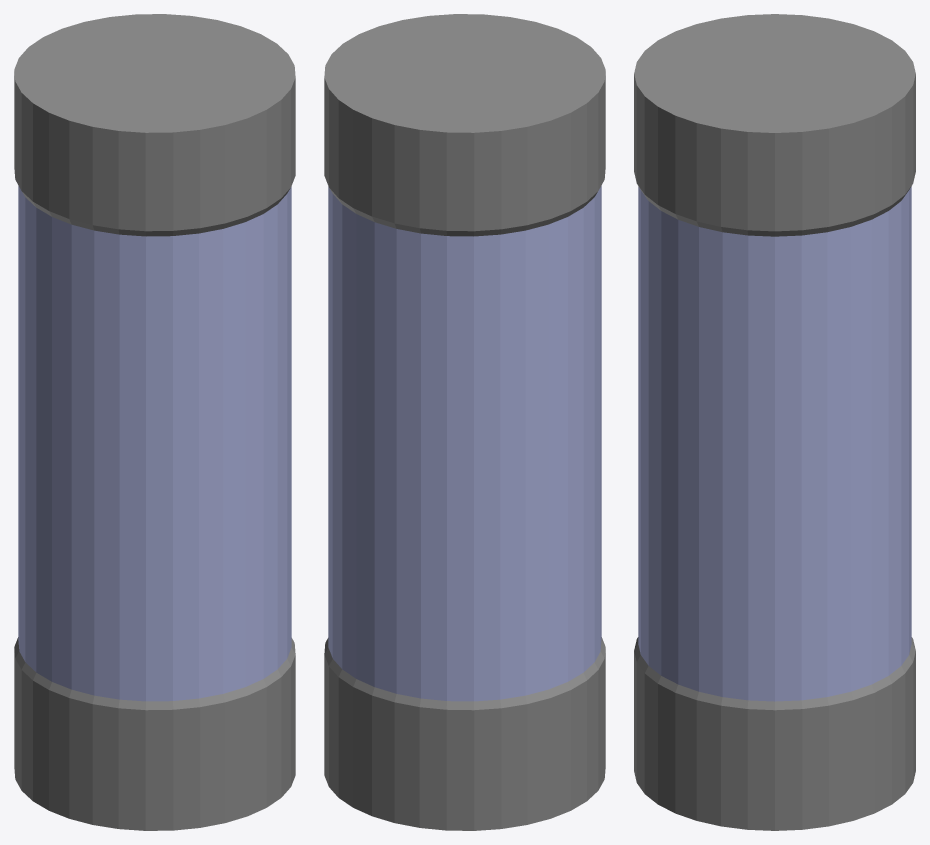
The picture shows the model from 3 angles, left to right: view 1: azimuth 30°, elevation 25°; view 2: azimuth 150°, elevation 25°; view 3: azimuth 270°, elevation 25°; orthographic projection.
Parts seen in each view (by area): view 1: Cylinder; view 2: Cylinder; view 3: Cylinder.
Part boxes in pixels (x1,y1,x2,y2): Cylinder: (14, 14, 295, 830); Cylinder: (324, 14, 605, 830); Cylinder: (634, 14, 915, 830).
Bounding box in the file's own units: 200 × 547 × 200.
